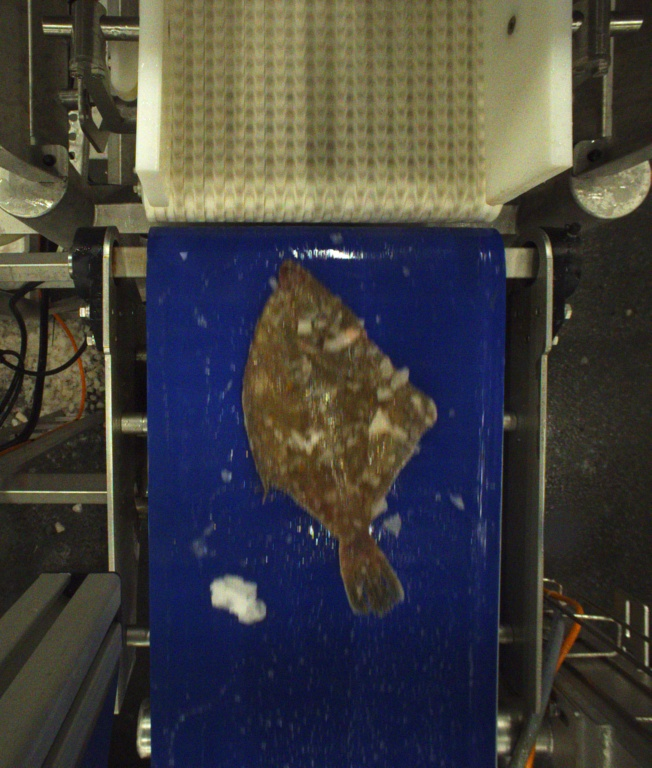PLE: (242, 258, 440, 616)
